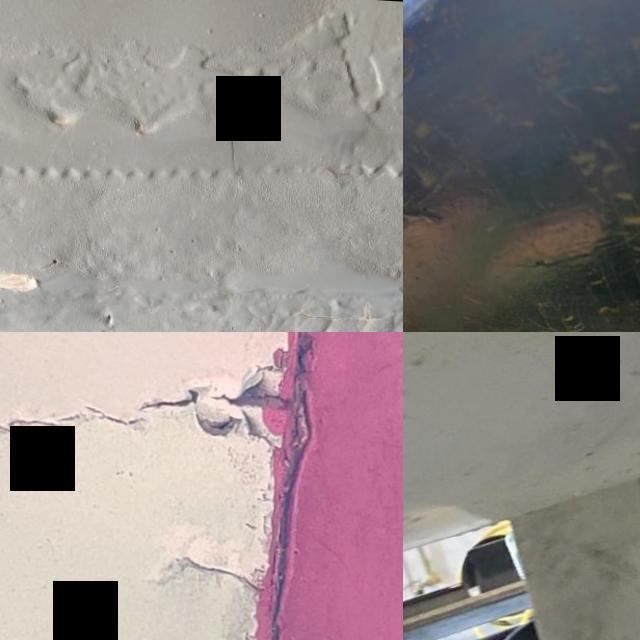Crack: (0, 332, 310, 474), (166, 523, 291, 611), (290, 284, 400, 332), (212, 92, 247, 178)
Dent: (403, 96, 478, 323)
